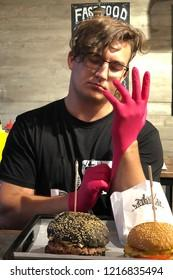gloves: (100, 66, 151, 146), (68, 162, 110, 212)
